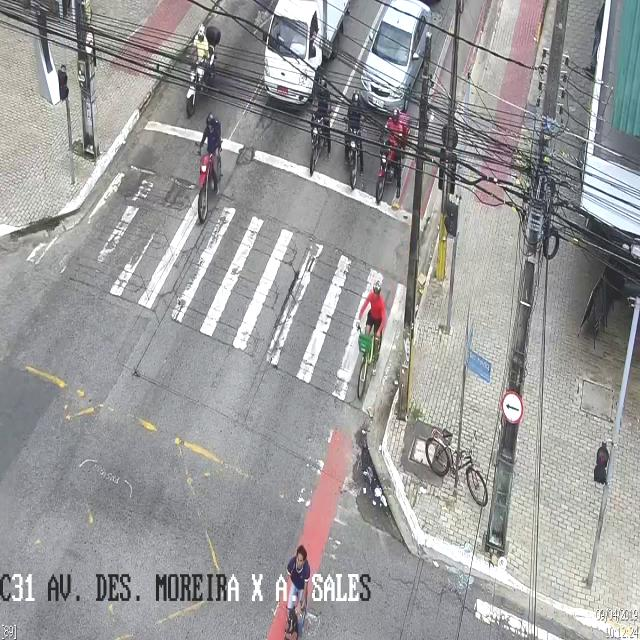Car: (362, 1, 435, 114)
Motorcycle: (374, 110, 410, 204), (193, 114, 223, 226), (187, 25, 221, 112), (342, 90, 364, 191), (310, 78, 332, 178)
Truck: (263, 2, 348, 106)
